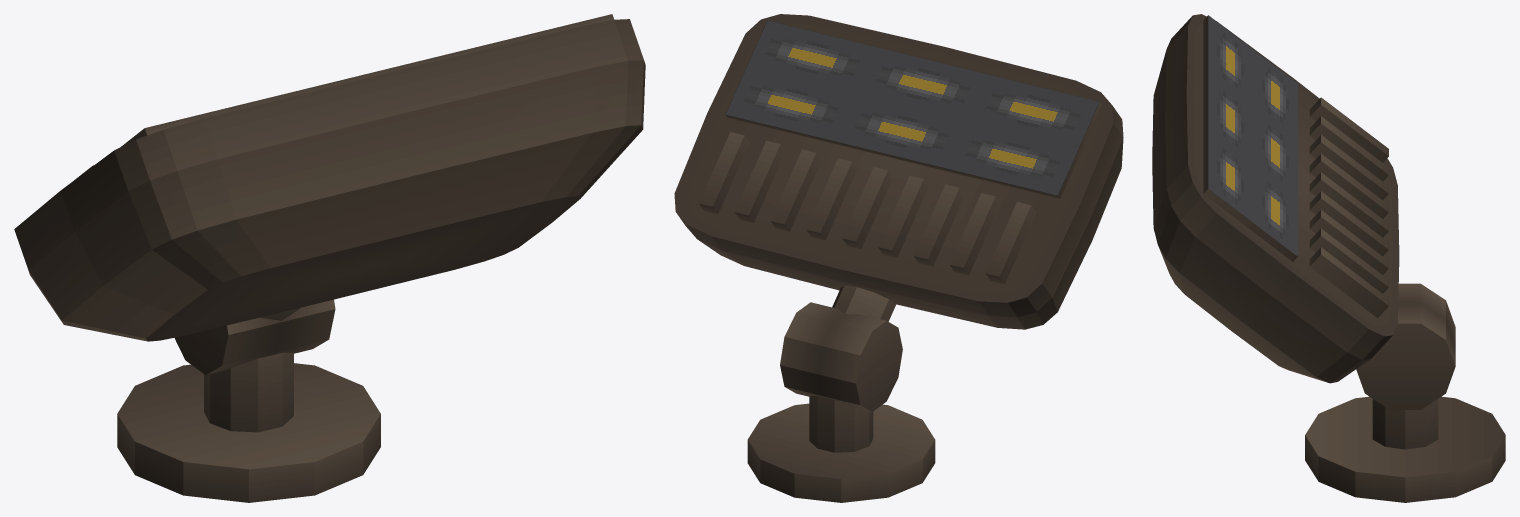
Rendered from floodlight_lithdsxf2kn_g.obj.
3 renders of one model, left to right at view 1: azimuth 30°, elevation 25°; view 2: azimuth 150°, elevation 25°; view 3: azimuth 270°, elevation 25°, orthographic. The views are drawn at different scales.
Visible parts, largest first — view 1: fixture; view 2: fixture; view 3: fixture.
Boxes of the visible parts, x1,y1,x2,y2 form: fixture: [14, 14, 645, 502]; fixture: [674, 14, 1123, 502]; fixture: [1152, 14, 1505, 502].
Bounding box in the file's own units: 0.4598 × 0.4027 × 0.3524.
